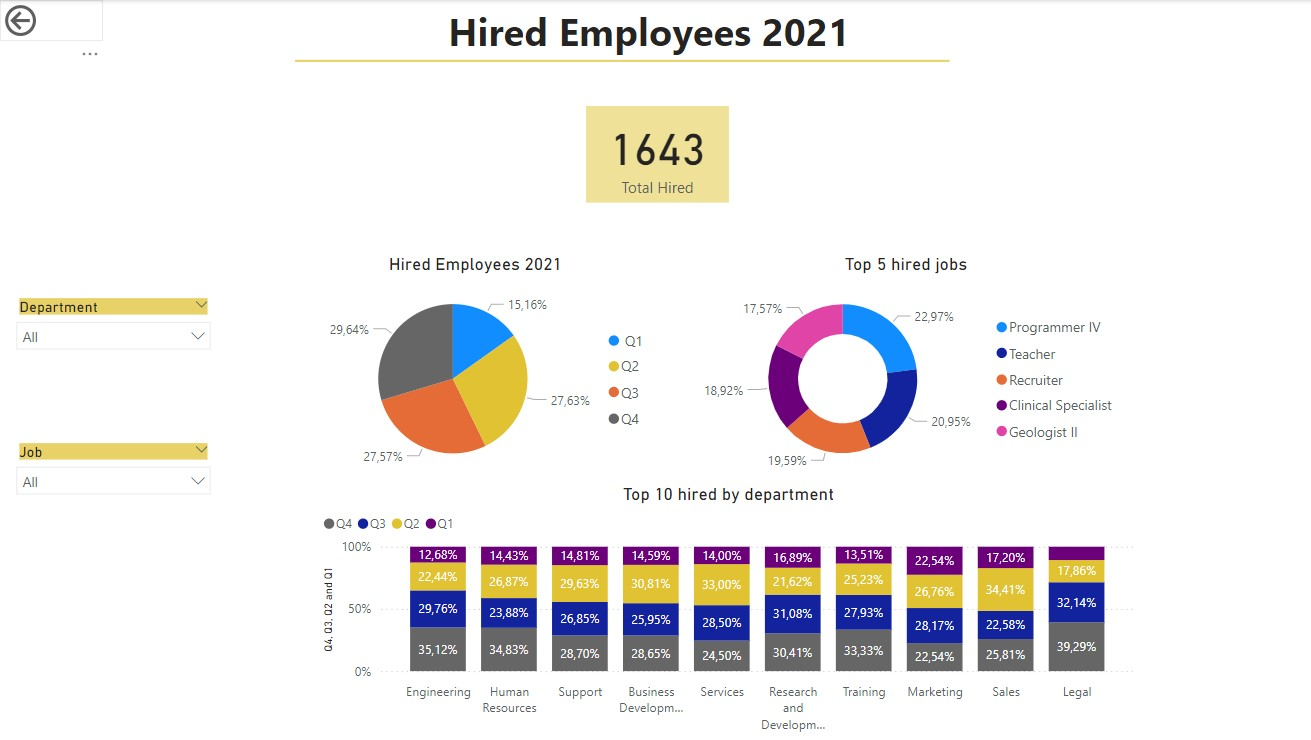

The page's visual inventory and layout, read from the dashboard file:
{"tool":"powerbi","page":{"name":"Page 1","canvas":[1280,720],"ordinal":0},"visuals":[{"type":"textbox","box":[430.9,0,424.7,59.4],"z":0},{"type":"slicer","fields":{"Values":["hired_employees_by_q.department"]},"box":[6.2,284.6,209.3,60.3],"z":2},{"type":"slicer","fields":{"Values":["hired_employees_by_q.job"]},"box":[6.2,426.5,209.3,65.6],"z":3},{"type":"pieChart","title":"Hired Employees 2021","fields":{"Y":["Sum(hired_employees_by_q.Q1)","Sum(hired_employees_by_q.Q2)","Sum(hired_employees_by_q.Q3)","Sum(hired_employees_by_q.Q4)"]},"box":[285,247.1,355,223.7],"z":4},{"type":"shape","box":[287.3,47.9,636.7,23.1],"z":5},{"type":"card","fields":{"Values":["hired_employees_by_q.Total Hired"]},"box":[570.1,102.9,139.2,94],"z":6},{"type":"hundredPercentStackedColumnChart","title":"Top 10 hired by department","fields":{"Category":["hired_employees_by_q.department"],"Y":["Sum(hired_employees_by_q.Q4)","Sum(hired_employees_by_q.Q3)","Sum(hired_employees_by_q.Q2)","Sum(hired_employees_by_q.Q1)"]},"box":[309.3,470.8,798.5,249],"z":7},{"type":"donutChart","title":"Top 5 hired  jobs","fields":{"Category":["hired_employees_by_q.Job"],"Y":["hired_employees_by_q.Total Hired"]},"box":[666.3,247.1,429.9,223.7],"z":8},{"type":"actionButton","box":[0,0,100,40],"z":9}]}

Visuals, with their boxes on the page's 1280x720 design canvas (x1, y1, x2, y2). These are canvas units, not pixel positions in the 1311x740 screenshot, which may show the page scaled, cropped or inside an application window:
textbox: [left=431, top=0, right=856, bottom=59]
slicer - hired_employees_by_q.department: [left=6, top=285, right=216, bottom=345]
slicer - hired_employees_by_q.job: [left=6, top=426, right=216, bottom=492]
"Hired Employees 2021" pieChart: [left=285, top=247, right=640, bottom=471]
shape: [left=287, top=48, right=924, bottom=71]
card - hired_employees_by_q.Total Hired: [left=570, top=103, right=709, bottom=197]
"Top 10 hired by department" hundredPercentStackedColumnChart: [left=309, top=471, right=1108, bottom=720]
"Top 5 hired  jobs" donutChart: [left=666, top=247, right=1096, bottom=471]
actionButton: [left=0, top=0, right=100, bottom=40]
